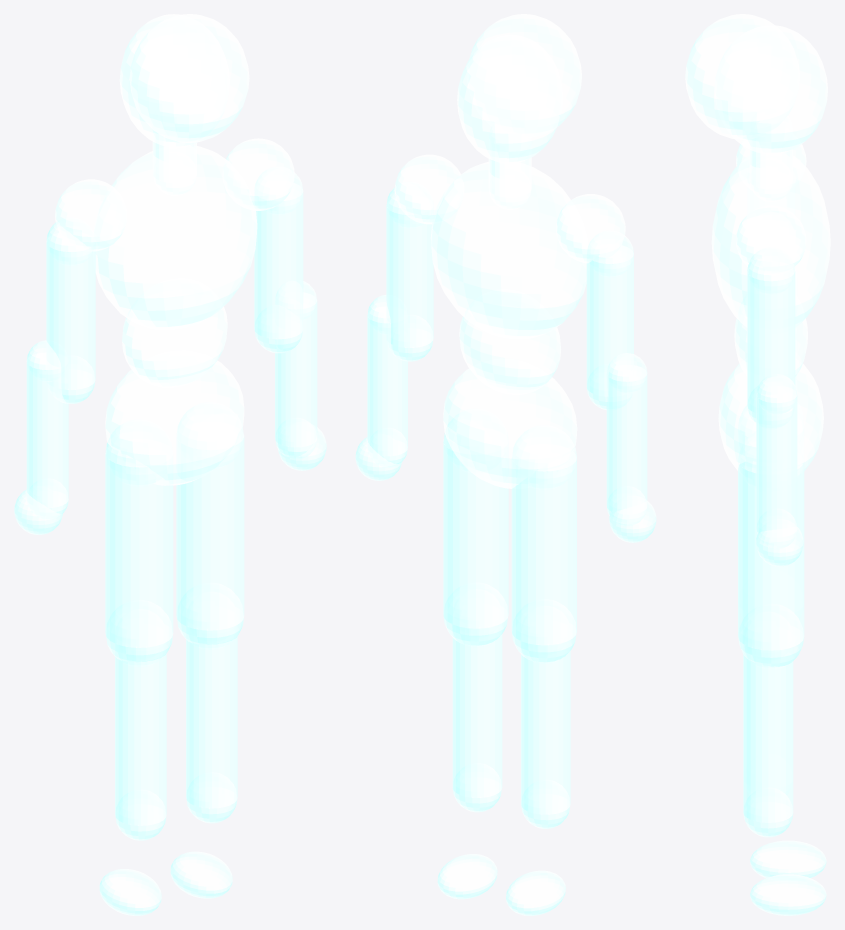
Rendered from presence_form.glb.
3 renders of one model, left to right at view 1: azimuth 30°, elevation 25°; view 2: azimuth 150°, elevation 25°; view 3: azimuth 270°, elevation 25°, orthographic. The views are drawn at different scales.
Parts seen in each view (by area): view 1: arda_presence_cortana; view 2: arda_presence_cortana; view 3: arda_presence_cortana.
Part boxes in pixels (x1,y1,x2,y2): arda_presence_cortana: [14, 14, 326, 915]; arda_presence_cortana: [355, 14, 656, 915]; arda_presence_cortana: [685, 14, 830, 915].
Bounding box in the file's own units: 0.6034 × 1.7 × 0.2552.
